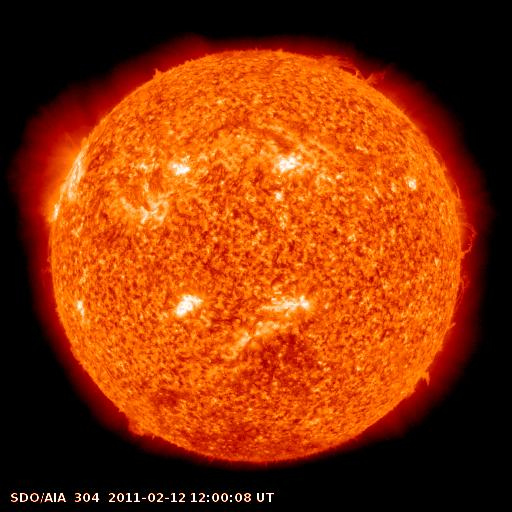prominence: (310, 37, 393, 92), (432, 266, 481, 333), (102, 401, 162, 449), (439, 211, 487, 261), (395, 356, 441, 408)
